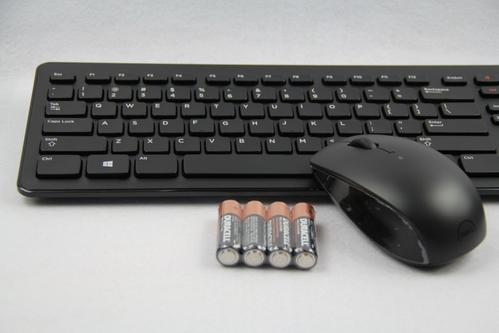keyboard: (16, 60, 497, 204)
mouse: (309, 133, 486, 270)
